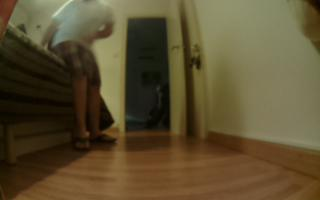person: (53, 1, 121, 155)
